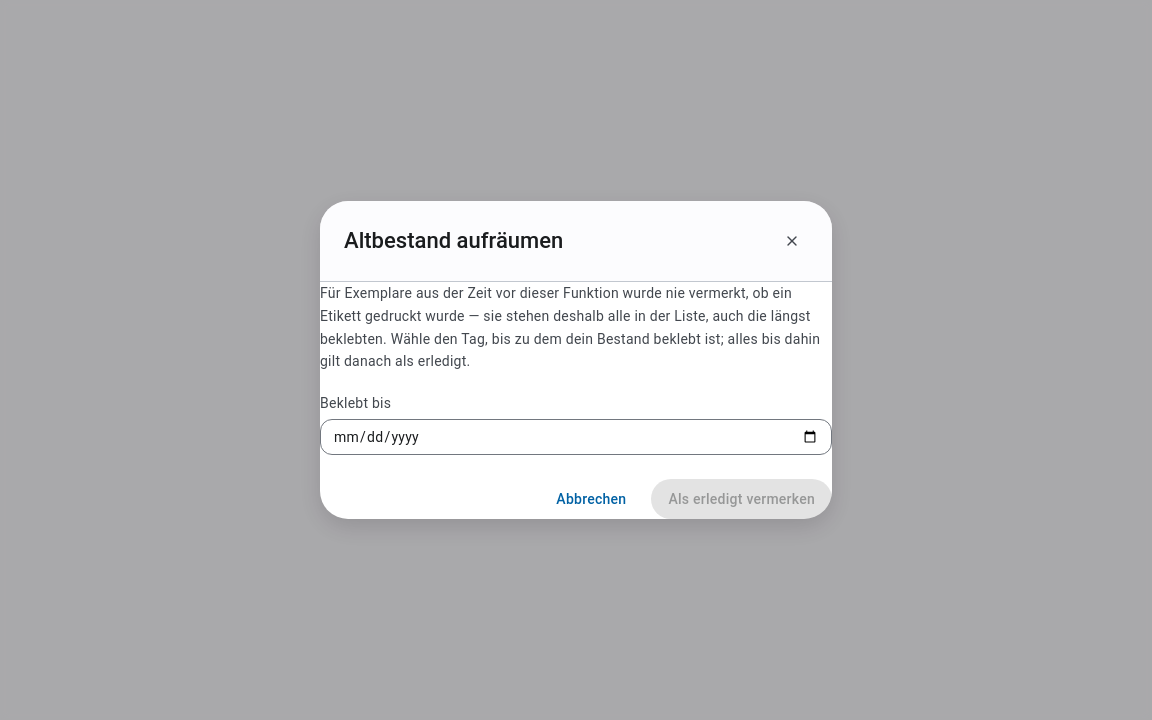
Scenario: AltbestandDialog: die Zahl vor dem Vermerk › zeigt die Zahl zum zuletzt gewählten Tag, auch wenn eine ältere Antwort zuletzt kommt
In the date field labelled "Beklebt bis": (576, 437) [320,419,832,455], type "2020-01-01"
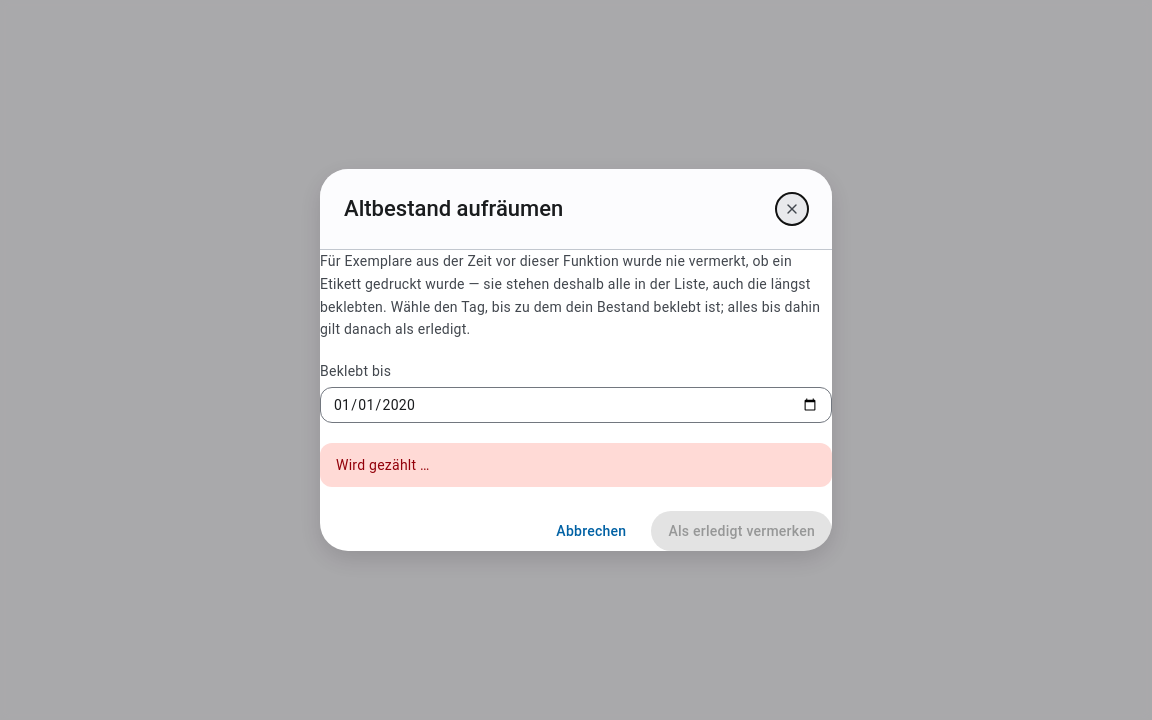
In the date field labelled "Beklebt bis": (576, 405) [320,387,832,423], type "2024-01-01"
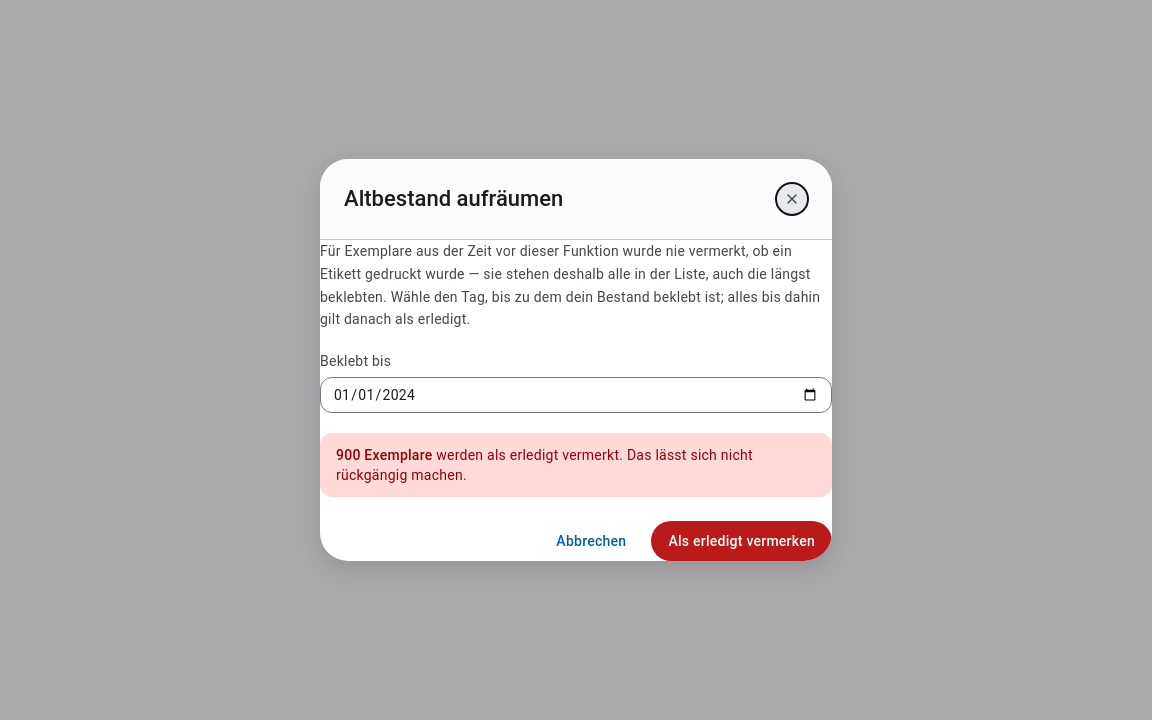
Check: the text "900 Exemplare" is shown, box [336,447,432,463]
